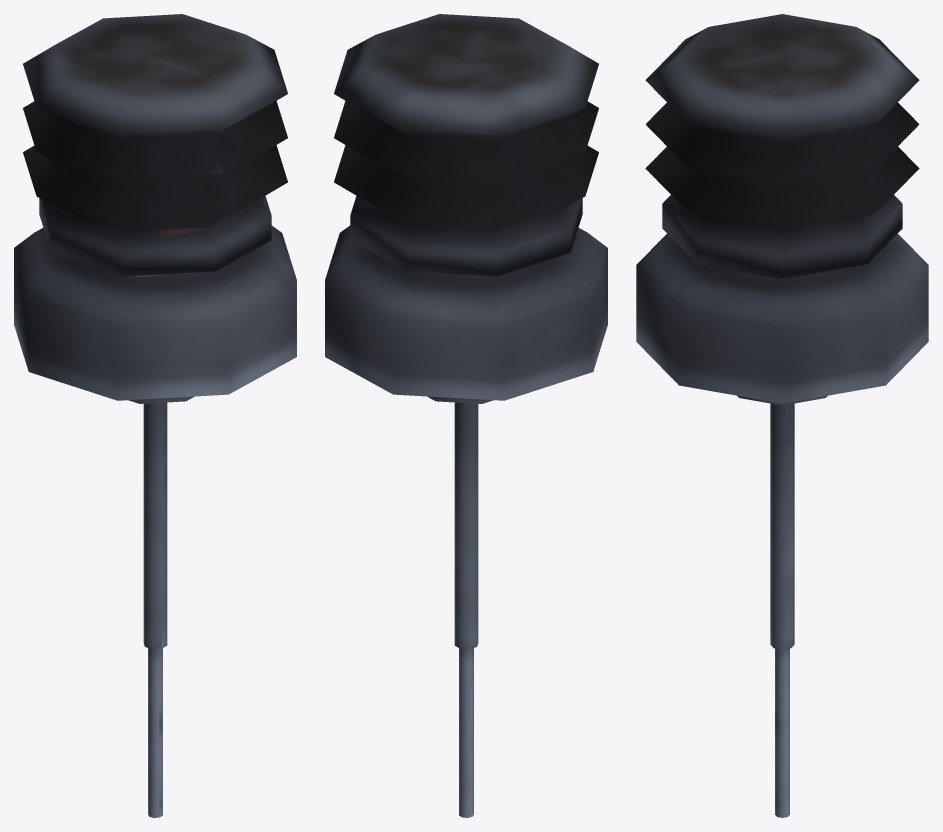
Rendered from prop_non_conducting_a.glb.
3 views of the same model, side by side, from view 1: azimuth 30°, elevation 25°; view 2: azimuth 150°, elevation 25°; view 3: azimuth 270°, elevation 25° (orthographic).
Parts seen in each view (by area): view 1: prop_non_conducting_a; view 2: prop_non_conducting_a; view 3: prop_non_conducting_a.
Part boxes in pixels (box(x1,y1,x2,y2)): prop_non_conducting_a: box(14, 14, 296, 817); prop_non_conducting_a: box(325, 14, 607, 817); prop_non_conducting_a: box(636, 14, 928, 817).
Bounding box in the file's own units: 0.14 × 0.4 × 0.14.
1 material, 1 textured.
